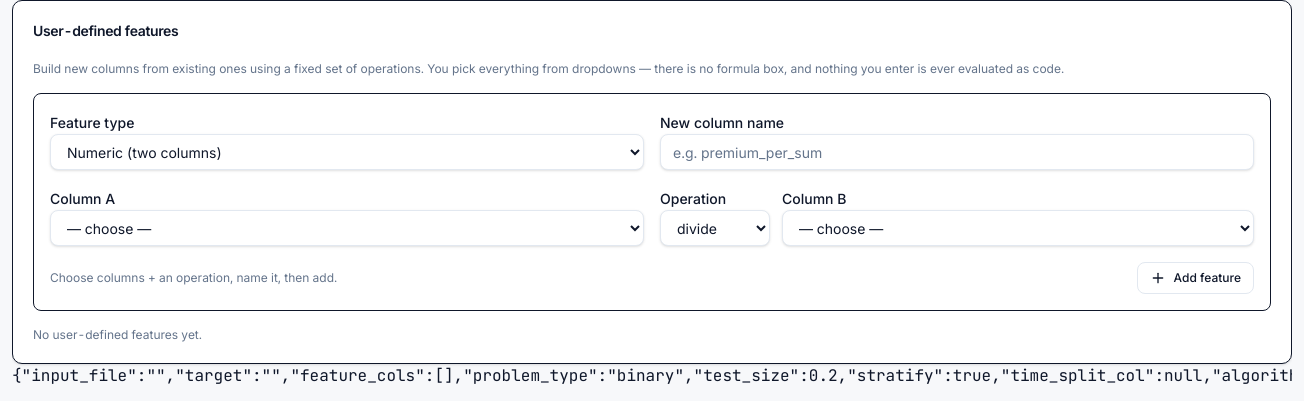
it: FeatureBuilderPanel › blocks a duplicate name (collision with an existing column or added feature)
This screenshot has width=1304, height=401.
// Collides with an existing dataset column → blocked.
Select "premium" in the dropdown labelled "Column A": {"x": 347, "y": 228} x1=50 y1=210 x2=644 y2=246
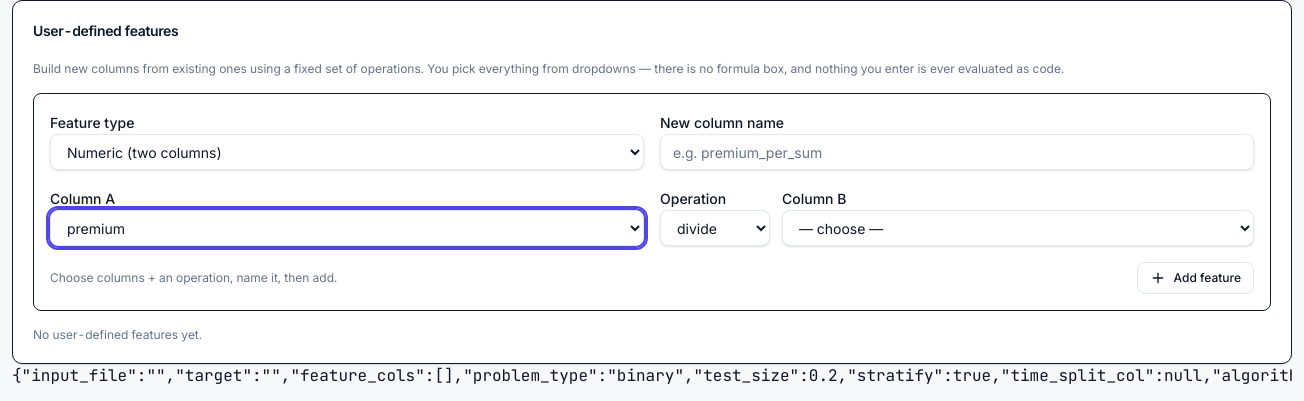
Select "sum_assured" in the dropdown labelled "Column B": {"x": 1018, "y": 228} x1=782 y1=210 x2=1254 y2=246
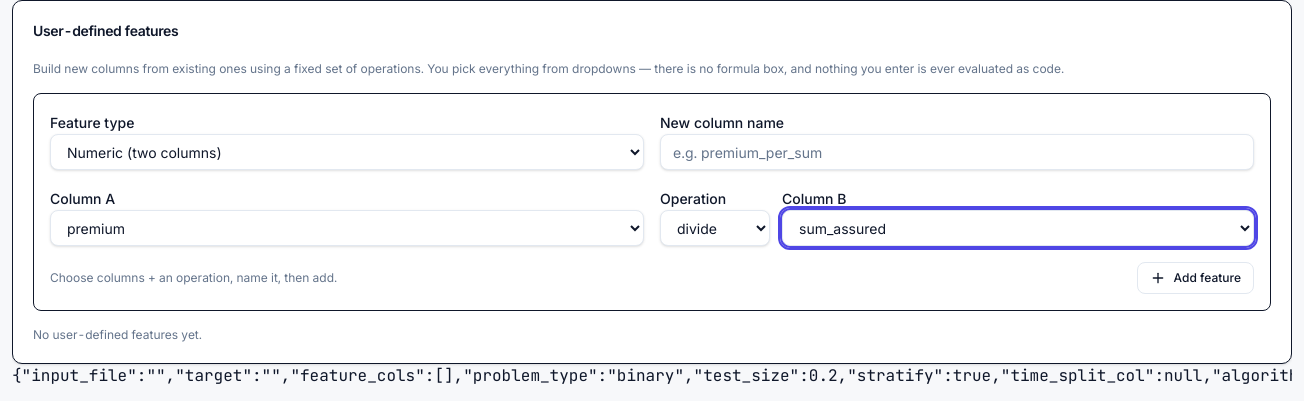
In the field named "New feature name": {"x": 957, "y": 152} x1=660 y1=134 x2=1254 y2=170, type "age"
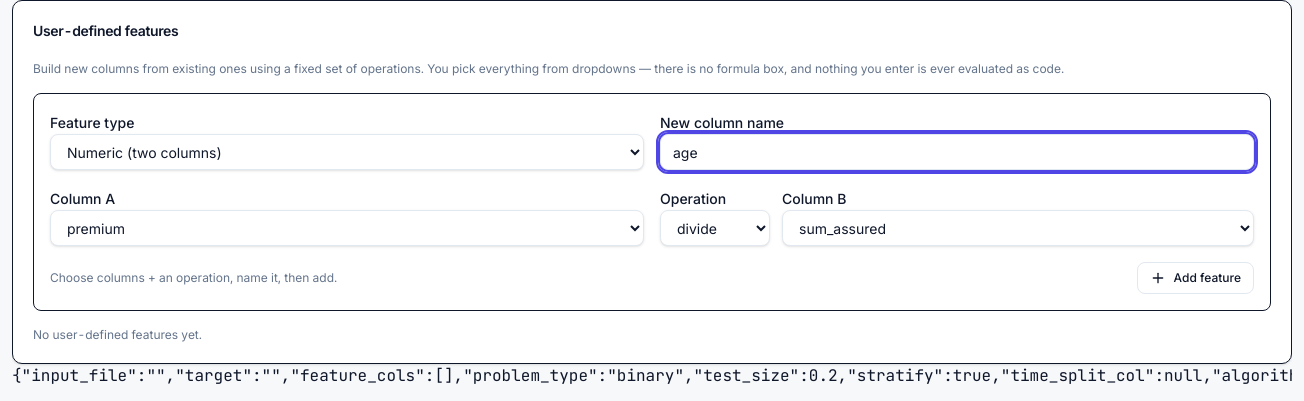
Click the button "Add feature": {"x": 1195, "y": 278} x1=1136 y1=262 x2=1254 y2=294
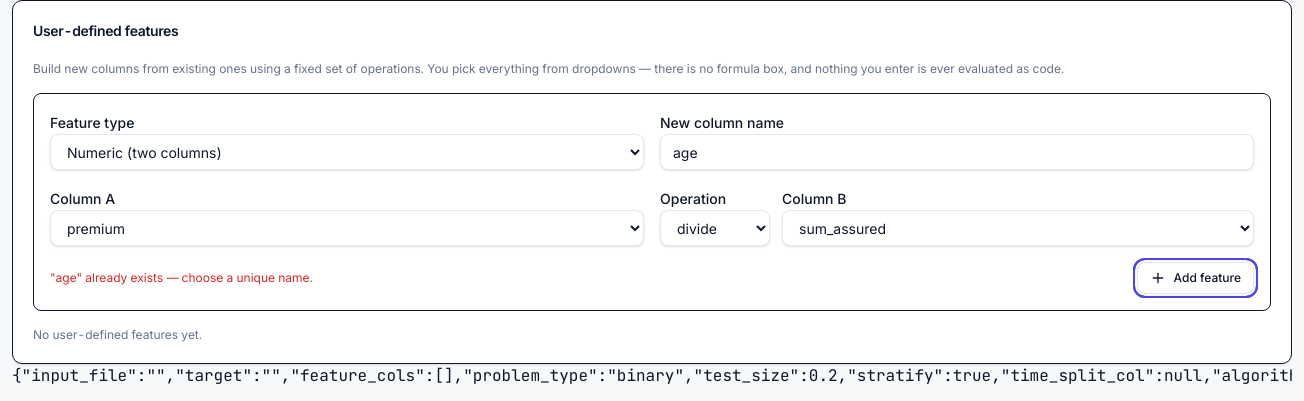
Check: the message shows "already exists", box x1=50 y1=270 x2=313 y2=285
